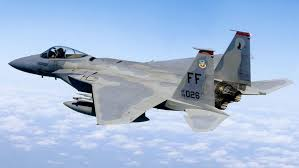fighter: (7, 26, 295, 137)
